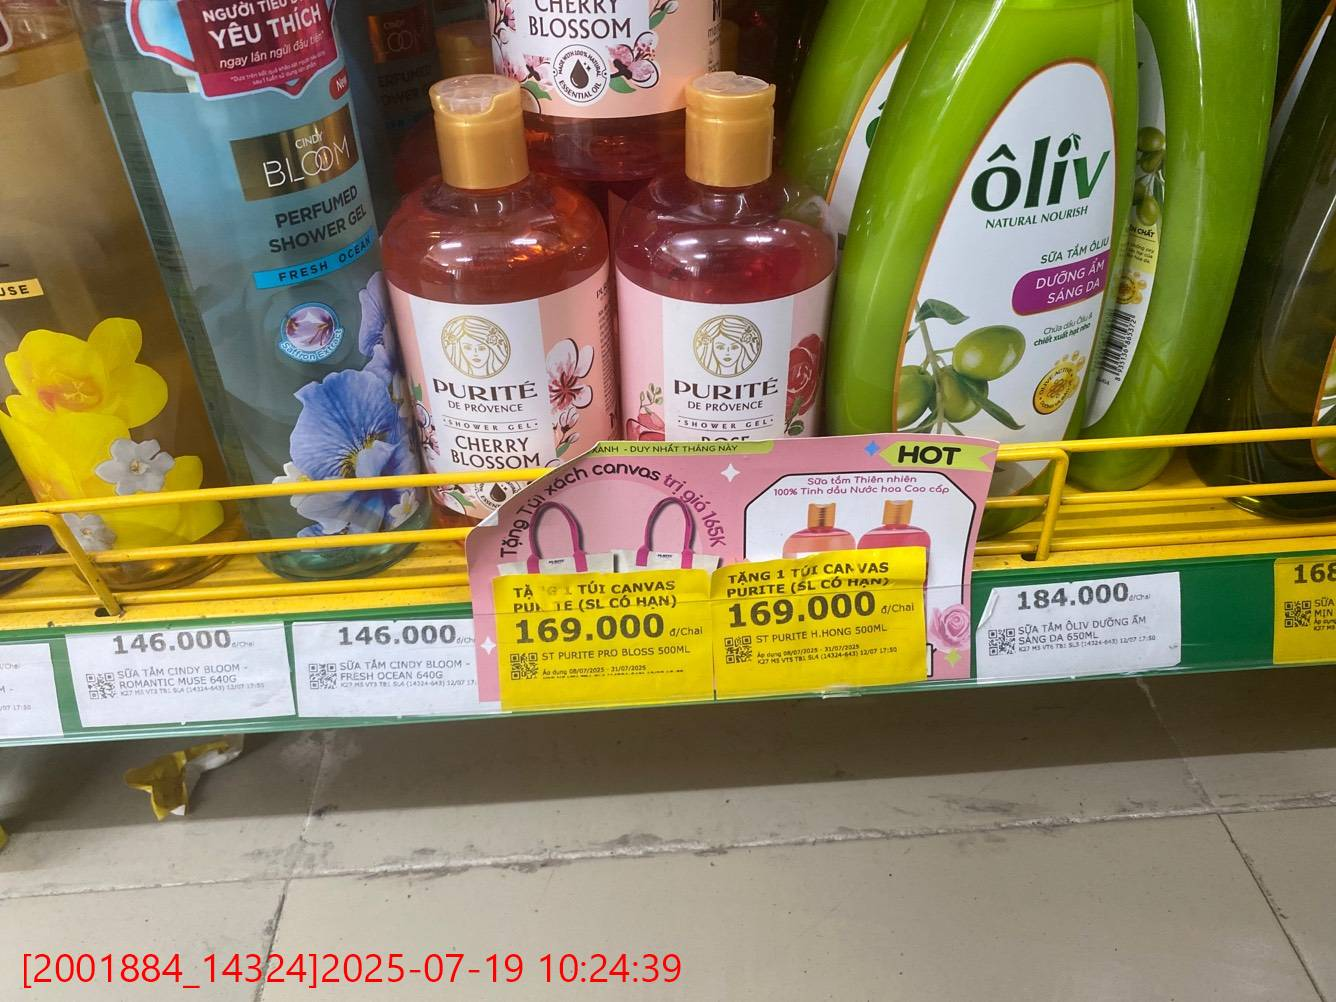pricetag: (720, 545, 923, 699), (486, 575, 714, 700)
